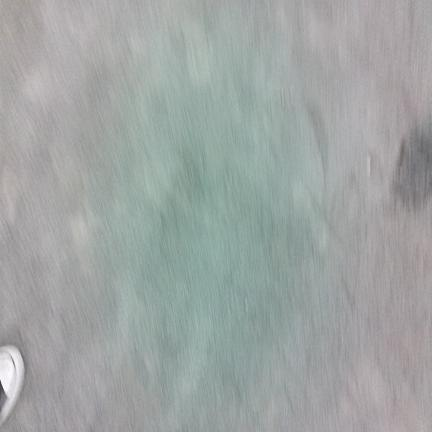Rock: (366, 154, 371, 177)
